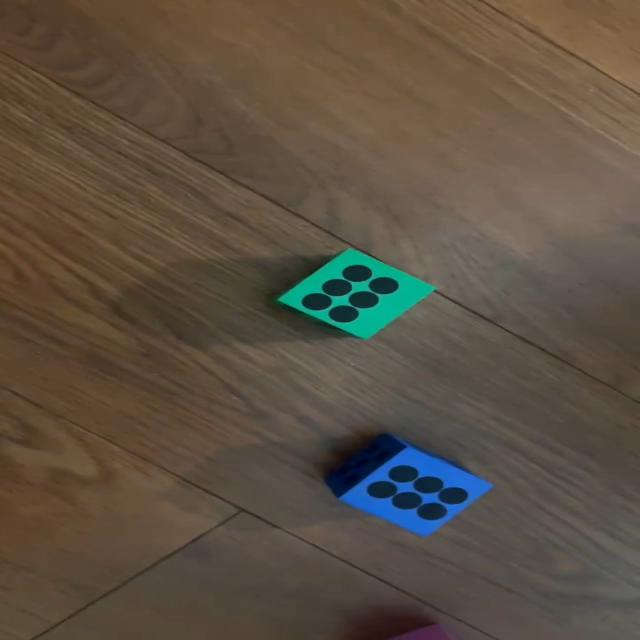blue_block: (329, 431, 492, 535)
